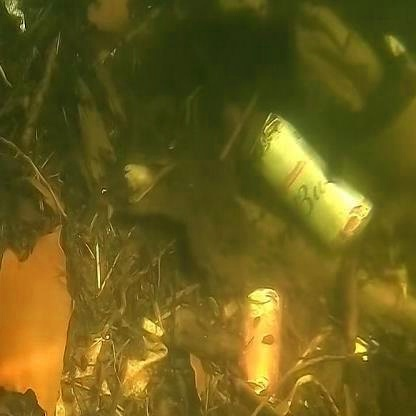can: (256, 113, 374, 259), (231, 273, 289, 397)
